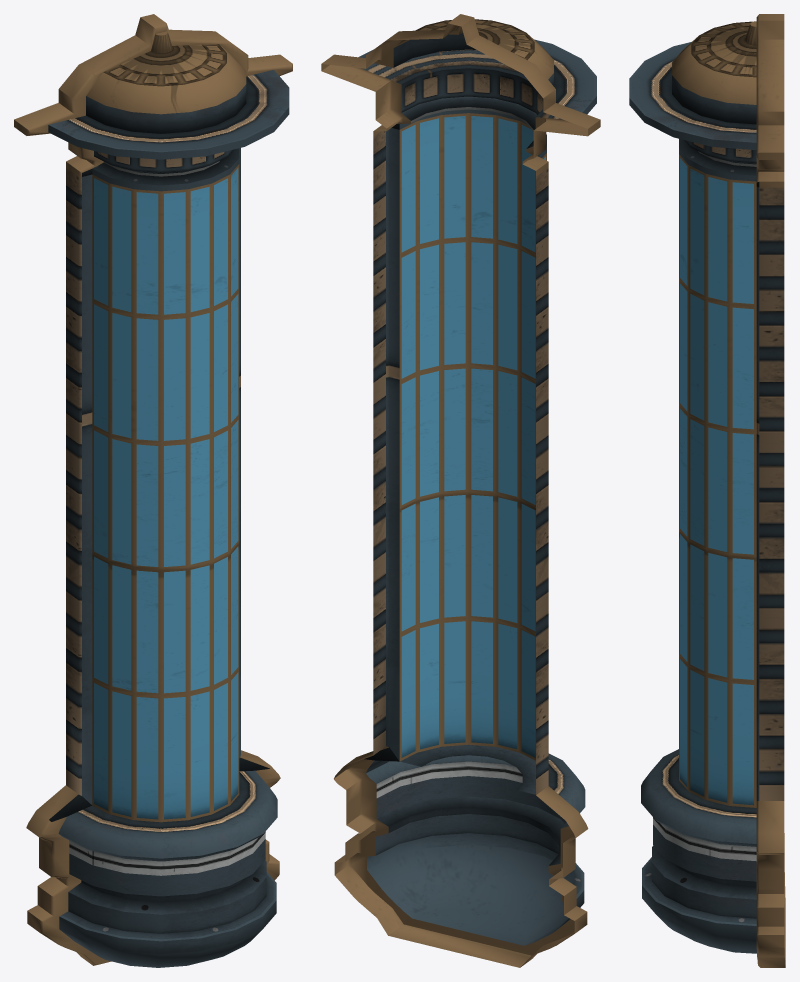
Rendered from Electric Tube Glowing Wall Mounted 3.fbx.
3 renders of one model, left to right at view 1: azimuth 30°, elevation 25°; view 2: azimuth 150°, elevation 25°; view 3: azimuth 270°, elevation 25°, orthographic.
Parts seen in each view (by area): view 1: Cylinder; view 2: Cylinder; view 3: Cylinder.
Part boxes in pixels (x1,y1,x2,y2): Cylinder: (14,14,292,967); Cylinder: (321,14,600,967); Cylinder: (629,14,785,967).
Size of the model in its own units: 72.39 by 240 by 37.08.
